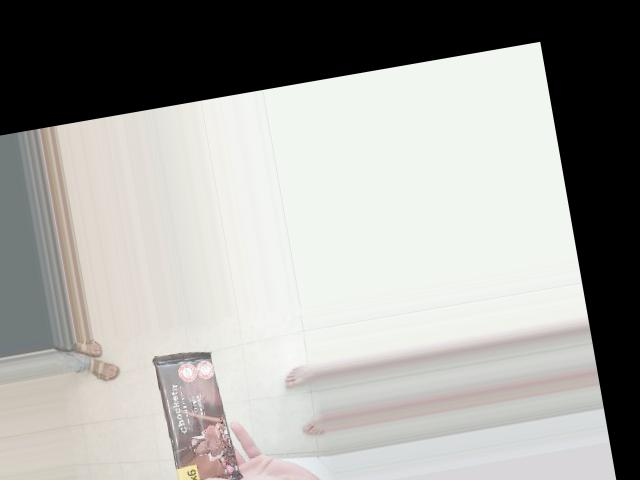chocolate: (82, 329, 250, 441)
